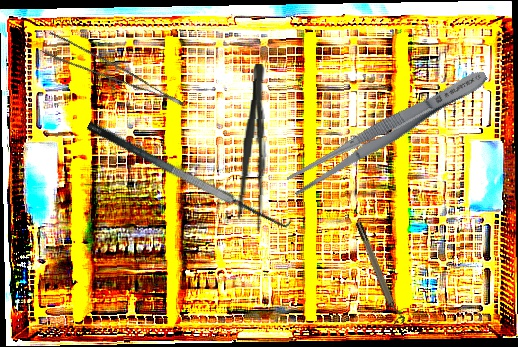Dressing Forceps: (284, 62, 493, 200), (236, 63, 273, 232)
Fixation Ring: (353, 219, 407, 327)
Spatula Surgical: (85, 103, 297, 239)
Tissue Forceps: (39, 25, 184, 128)
